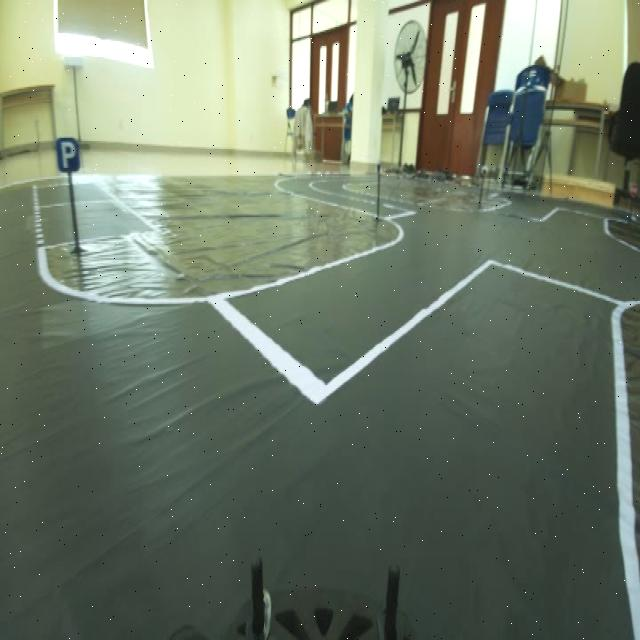parking: (48, 129, 86, 183)
